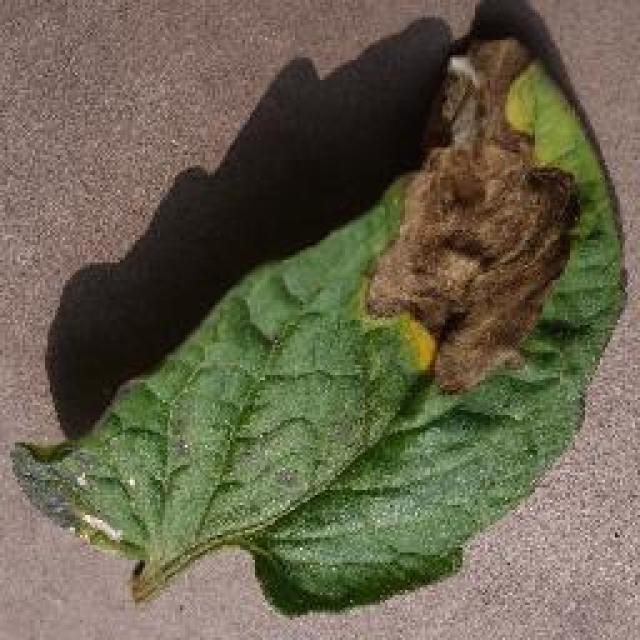Tomato Late Blight: (348, 33, 604, 390)
